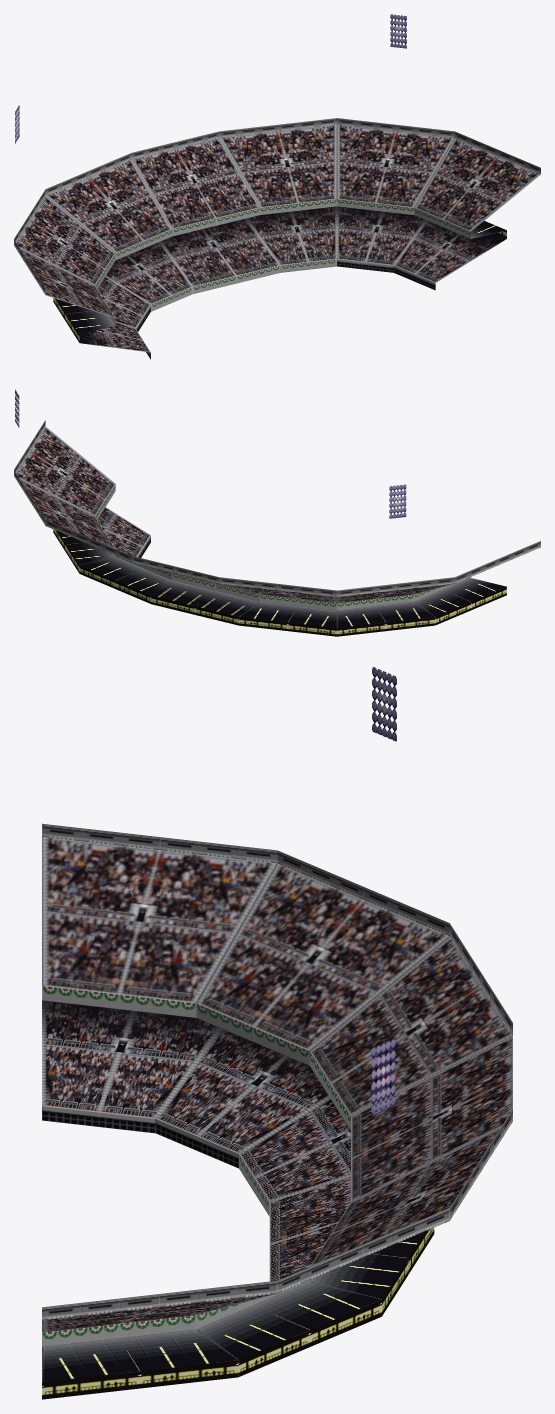
The picture shows the model from 3 angles, top to bottom: view 1: azimuth 30°, elevation 25°; view 2: azimuth 150°, elevation 25°; view 3: azimuth 270°, elevation 25°; orthographic projection. The views are drawn at different scales.
Size of the model in its own units: 160 by 62.2 by 66.02.
Materials: 9 (9 with a texture image).
